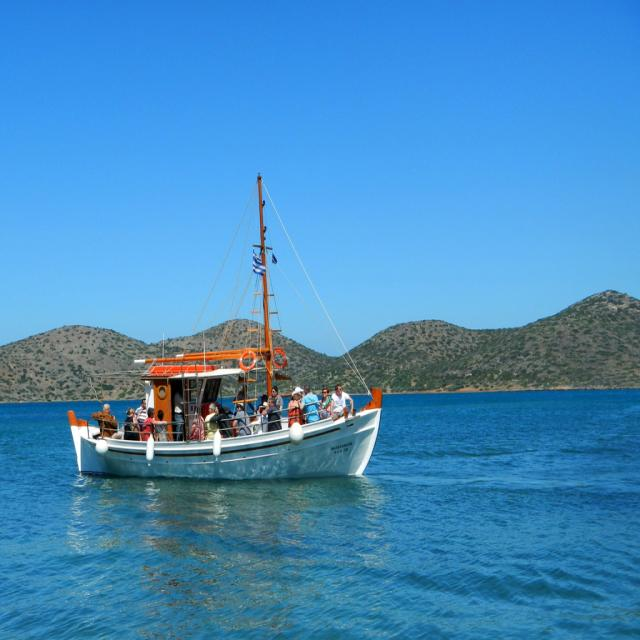Boat: (66, 174, 384, 484)
